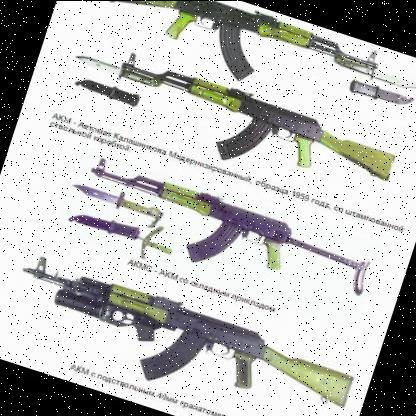rifle: (0, 242, 363, 416), (93, 50, 407, 217), (70, 151, 379, 318), (79, 0, 413, 136)
